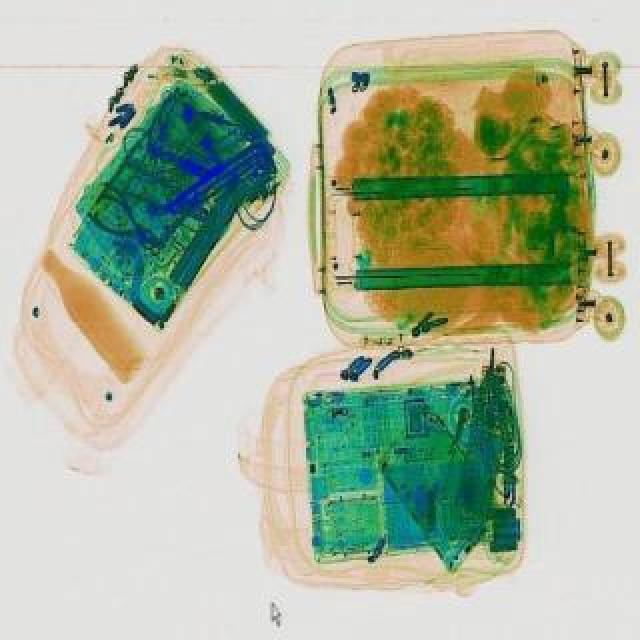wrench: (82, 188, 174, 260)
